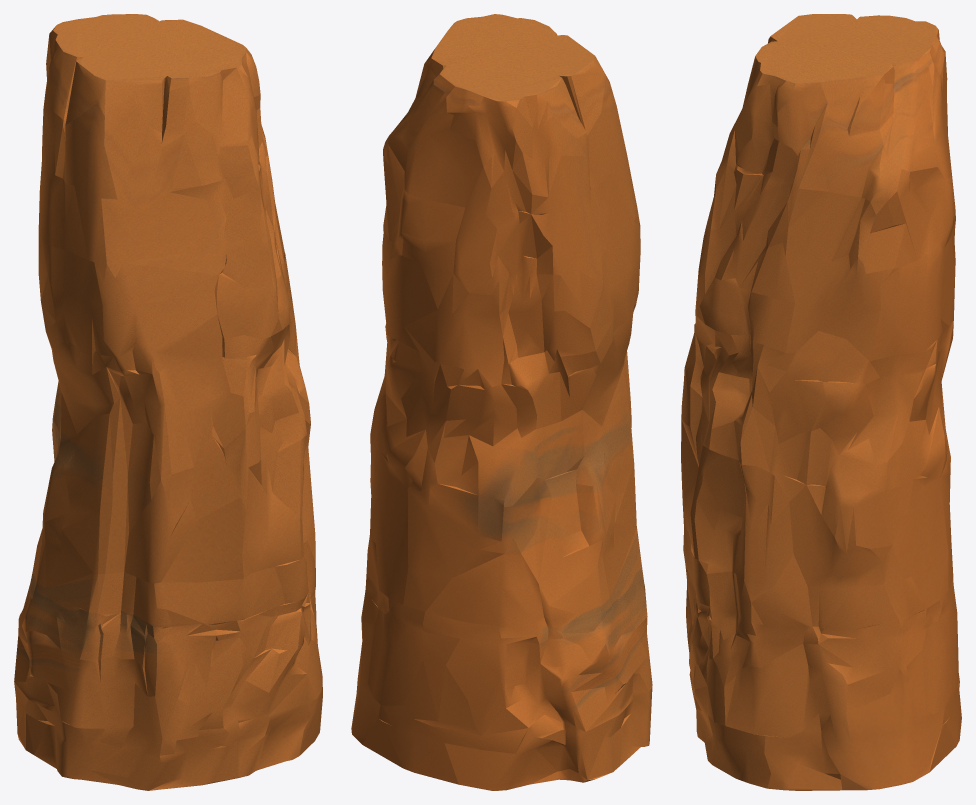
The model's file is sand_spire.glb.
3 views of the same model, side by side, from view 1: azimuth 30°, elevation 25°; view 2: azimuth 150°, elevation 25°; view 3: azimuth 270°, elevation 25° (orthographic).
Size of the model in its own units: 0.7543 by 1.9 by 0.7156.
1 material, 1 textured.
